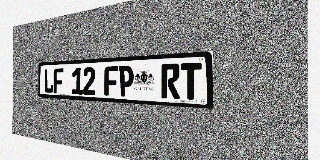1: (72, 67, 83, 95)
2: (83, 67, 95, 95)
F: (104, 66, 118, 96), (54, 68, 63, 94)
L: (44, 69, 53, 93)
P: (119, 65, 134, 97)
R: (161, 63, 180, 99)
T: (181, 62, 201, 100)
